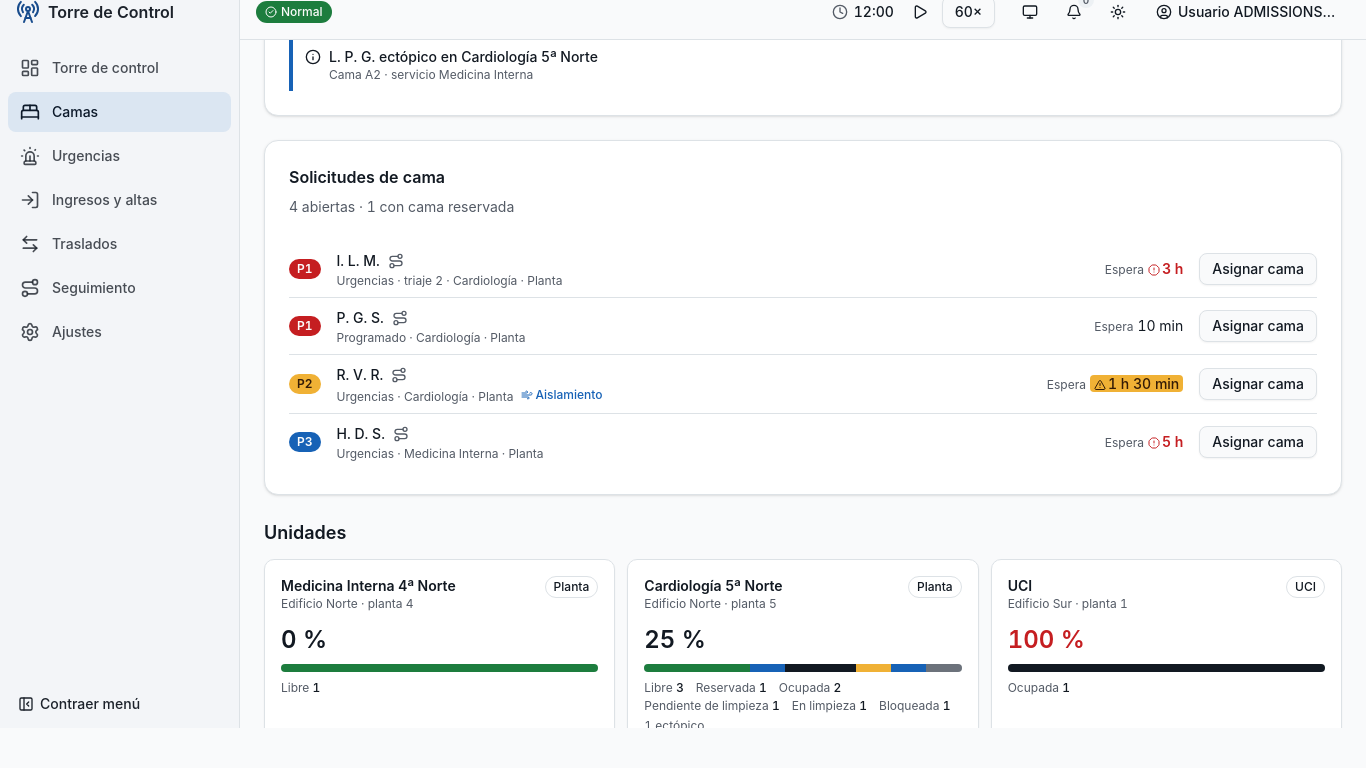
Test: assigning a bed › offers only isolation beds to a request that needs isolation
The image size is (1366, 768).
(page scrolled)
Expected: the list named "Solicitudes abiertas" is shown, [289,241,1317,470]
Click the button "Asignar cama" in the row of "P2". click: (1258, 384)
box: [1199,368,1317,400]
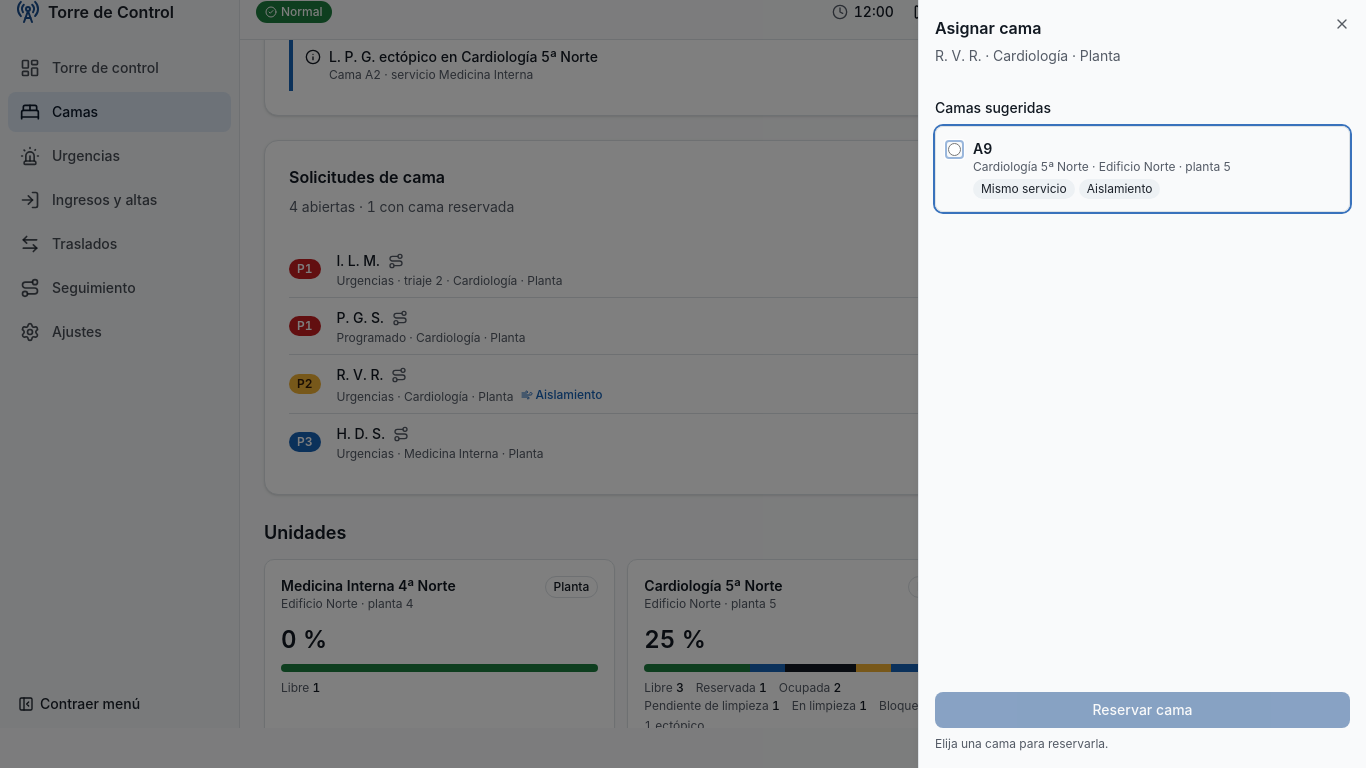
Now the number of radio buttons is 1, box [948,143,961,156]
Now the text "Aislamiento" is shown, box [1079,179,1160,199]
